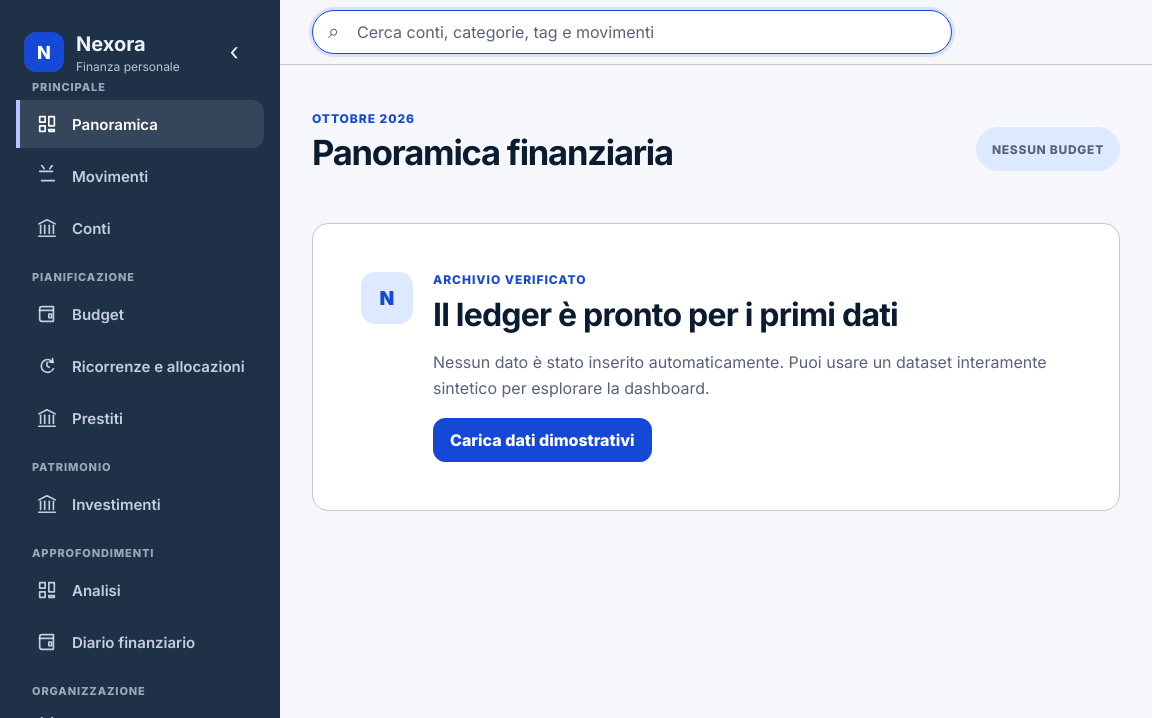
Scenario: Nexora app › proietta il seed sintetico in metriche, conti e attività
Click the button "Carica dati dimostrativi". click: (542, 440)
box: x1=433 y1=418 x2=652 y2=462
(page scrolled)
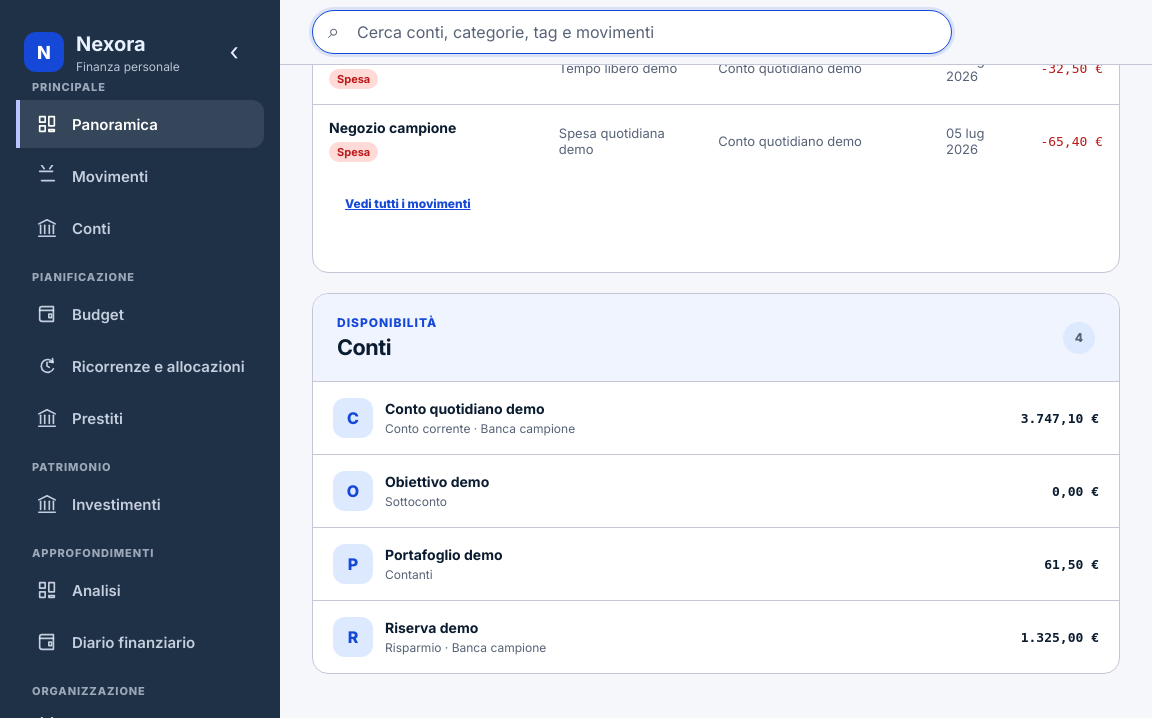
expect the list item "Conto quotidiano demo" shows "3.747,10 €": met, box x1=1021 y1=411 x2=1099 y2=426
